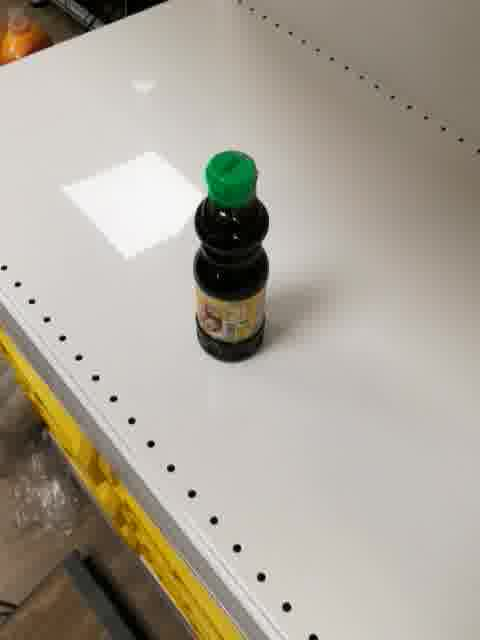cookingoil: (192, 148, 270, 364)
